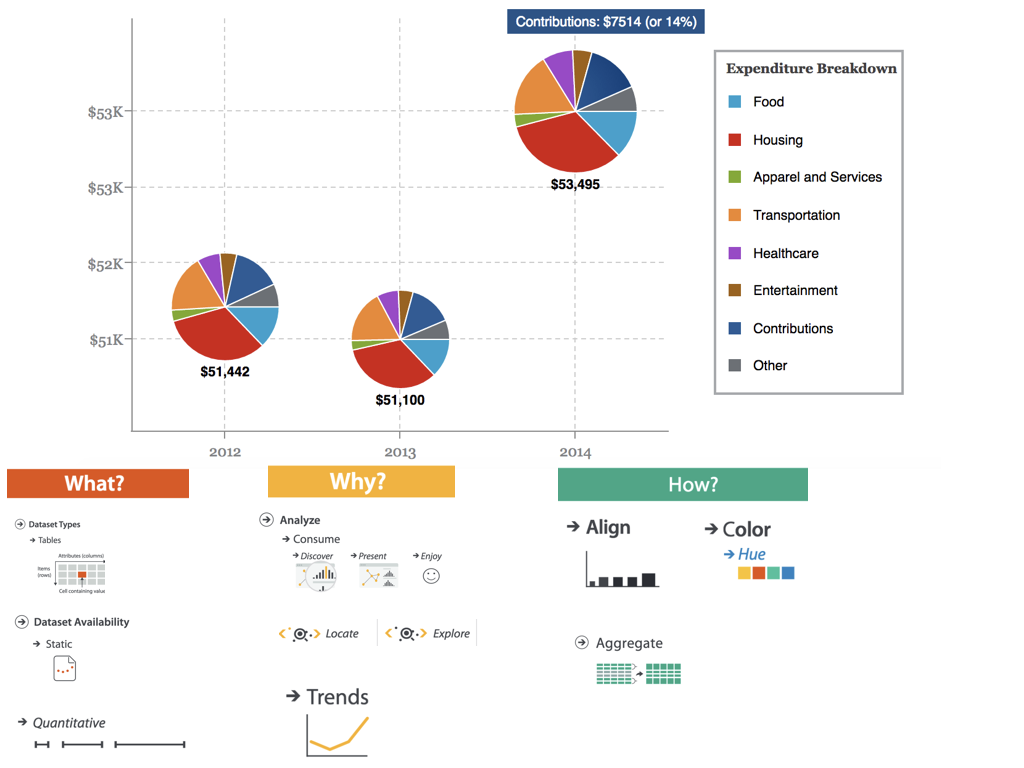

The page's visual inventory and layout, read from the dashboard file:
{"tool":"tableau","page":{"name":"Dashboard 1","canvas":[1000,800],"ordinal":0},"visuals":[{"type":"worksheet","title":"Sheet 1","mark":"Circle","rows":["MPG"],"cols":["Weight"],"box":[0,0,840,800]},{"type":"legend","title":"Sheet 1","param":"[textscan.14h8h6g1ua10101g5851s1sy8clt].[none:Manufacturer:nk]","box":[840,0,160,134]},{"type":"legend","title":"Sheet 1","param":"[textscan.14h8h6g1ua10101g5851s1sy8clt].[none:Weight:qk]","box":[840,134,160,110]}]}

Visuals, with their boxes on the page's 1000x800 design canvas (x1, y1, x2, y2). These are canvas units, not pixel positions in the 1024x768 screenshot, which may show the page scaled, cropped or inside an application window:
"Sheet 1" worksheet (Circle marks): select_region(0, 0, 840, 800)
"Sheet 1" legend: select_region(840, 0, 1000, 134)
"Sheet 1" legend: select_region(840, 134, 1000, 244)
